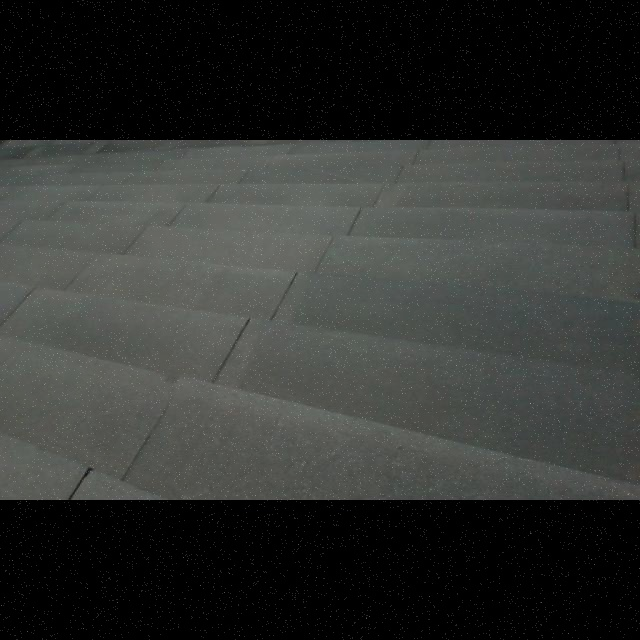stair: (0, 142, 638, 490)
